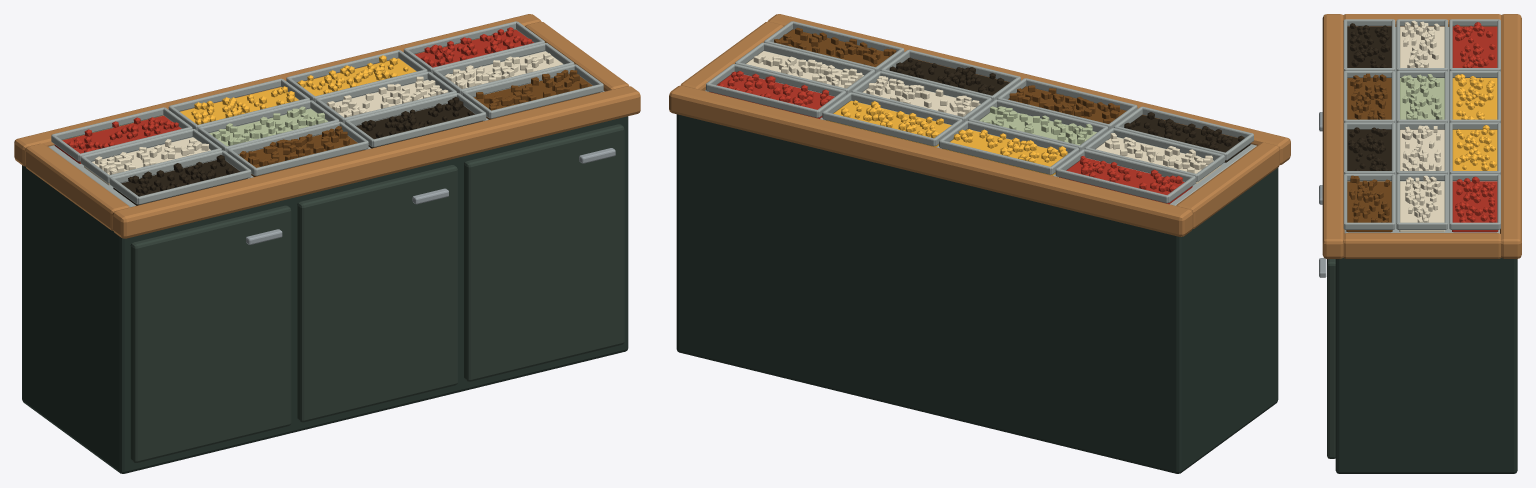
The model's file is inset_topping_counter.fbx.
The picture shows the model from 3 angles, left to right: view 1: azimuth 30°, elevation 25°; view 2: azimuth 150°, elevation 25°; view 3: azimuth 270°, elevation 25°; orthographic projection. The views are drawn at different scales.
Parts seen in each view (by area): view 1: inset_topping_counter; view 2: inset_topping_counter; view 3: inset_topping_counter.
Boxes of the visible parts, <box> form: inset_topping_counter: <box>14,14,640,473</box>; inset_topping_counter: <box>669,14,1290,473</box>; inset_topping_counter: <box>1319,14,1521,473</box>.
Bounding box in the file's own units: 1.84 × 0.9213 × 0.691.
